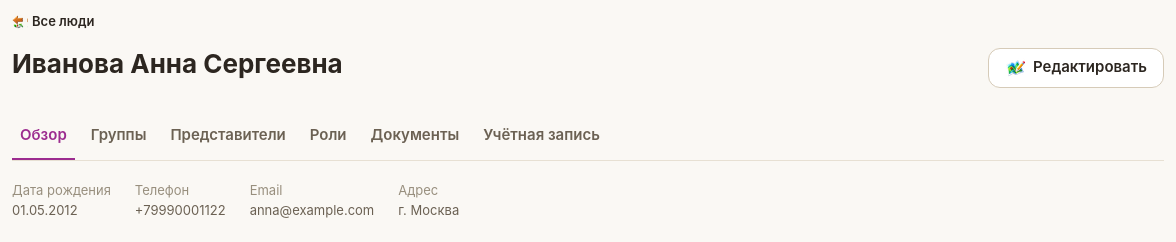
Test: PersonDetailPage › resolves and renders guardian relationships without any primary-contact control
The image size is (1176, 242).
Click the tab "Представители" at (228, 136), box [162,112,294,160]
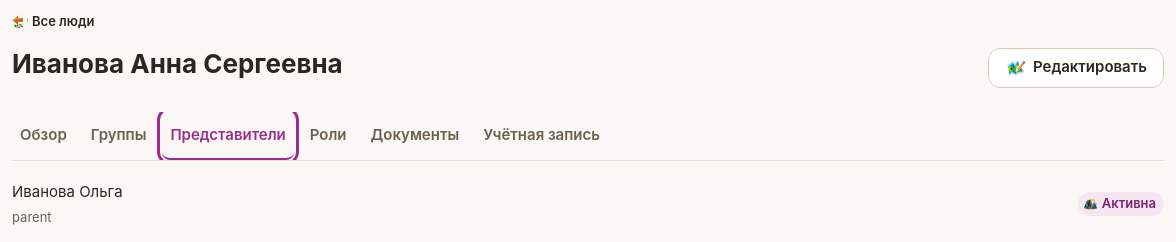
Check: the text "Иванова Ольга" is shown, box [12,181,123,204]
Check: the text "parent" is shown, box [12,208,52,224]
